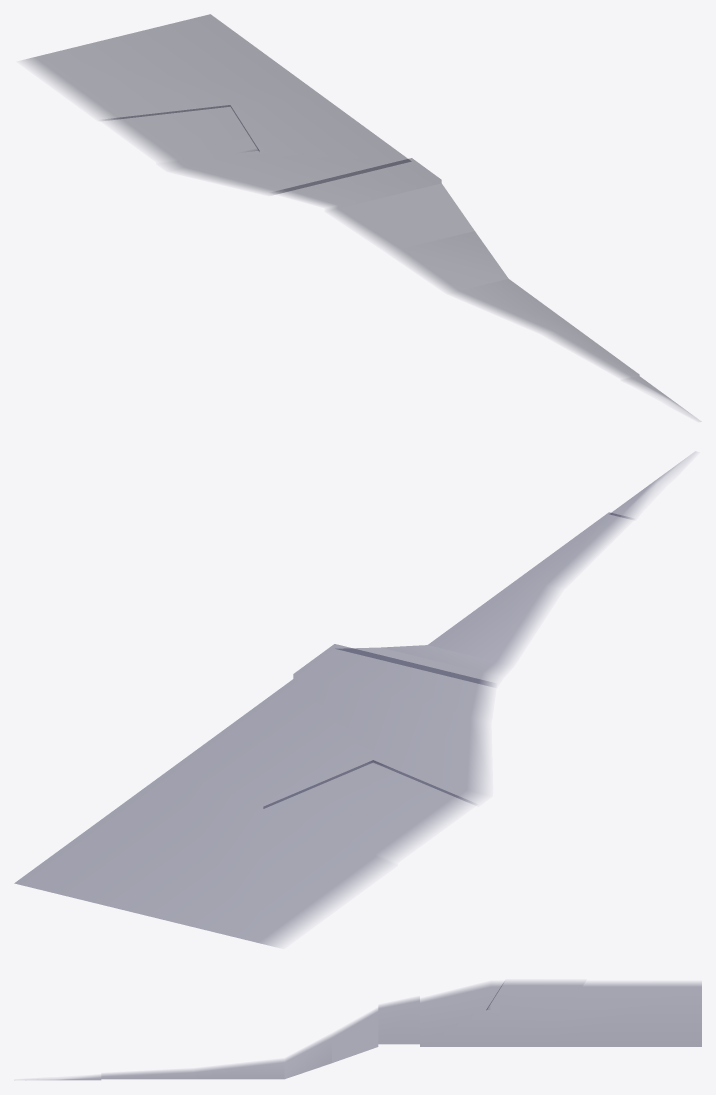
3 views of the same model, one above another, from view 1: azimuth 30°, elevation 25°; view 2: azimuth 150°, elevation 25°; view 3: azimuth 270°, elevation 25° (orthographic). The views are drawn at different scales.
Parts seen in each view (by area): view 1: Joint_0_Object_0; view 2: Joint_0_Object_0; view 3: Joint_0_Object_0.
Part boxes in pixels (bbox=[...]): Joint_0_Object_0: bbox=[24, 14, 692, 415]; Joint_0_Object_0: bbox=[14, 457, 687, 946]; Joint_0_Object_0: bbox=[37, 981, 701, 1079].
Bounding box in the file's own units: 985 × 247 × 4264.
Materials: 1 (1 with a texture image).
